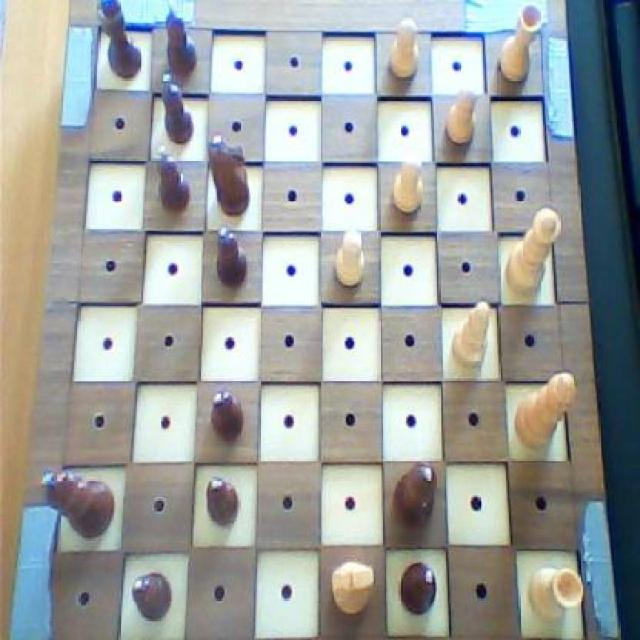bishop: (397, 558, 441, 618)
black-bishop: (40, 465, 120, 540)
black-king: (205, 130, 256, 218)
black-knight: (160, 0, 201, 77), (152, 141, 192, 214), (156, 68, 194, 144), (211, 223, 250, 289), (129, 568, 173, 622), (208, 386, 245, 445), (203, 476, 241, 532)
black-pawn: (389, 460, 439, 532)
black-queen: (94, 0, 146, 82)
black-rook: (449, 298, 493, 370)
white-bishop: (511, 366, 578, 455)
white-king: (325, 556, 377, 620)
white-knight: (384, 14, 424, 83), (389, 151, 427, 216), (442, 83, 480, 147), (332, 223, 368, 288)
white-pawn: (503, 205, 565, 299)
white-queen: (496, 0, 546, 89), (526, 562, 586, 622)
